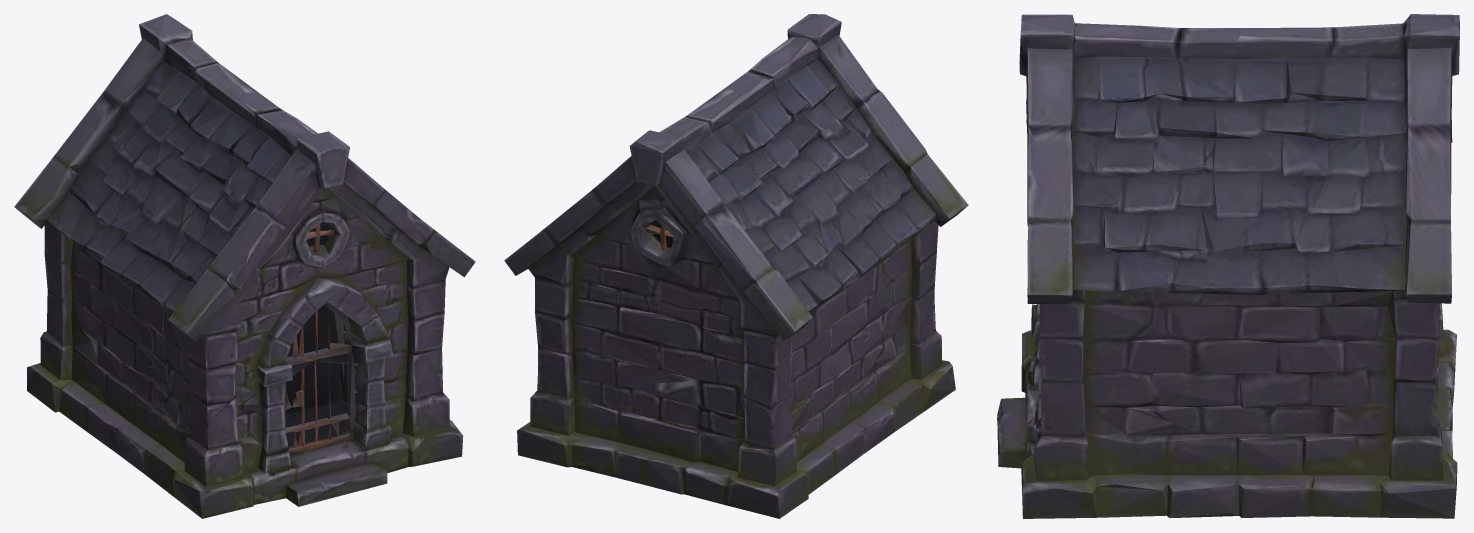
Rendered from oc_crypt.glb.
3 views of the same model, side by side, from view 1: azimuth 30°, elevation 25°; view 2: azimuth 150°, elevation 25°; view 3: azimuth 270°, elevation 25° (orthographic). The views are drawn at different scales.
Visible parts, largest first — view 1: W_crypt_small; view 2: W_crypt_small; view 3: W_crypt_small.
Part boxes in pixels (bbox=[...]): W_crypt_small: bbox=[14, 14, 475, 518]; W_crypt_small: bbox=[504, 14, 968, 518]; W_crypt_small: bbox=[997, 14, 1459, 518].
Size of the model in its own units: 4.08 by 4.61 by 4.59.
1 material, 1 textured.
